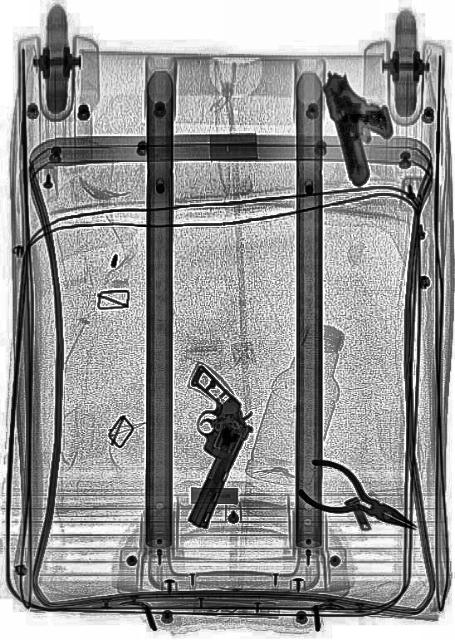Gun: (142, 363, 260, 533), (318, 51, 402, 189)
Pliers: (293, 448, 420, 552)
